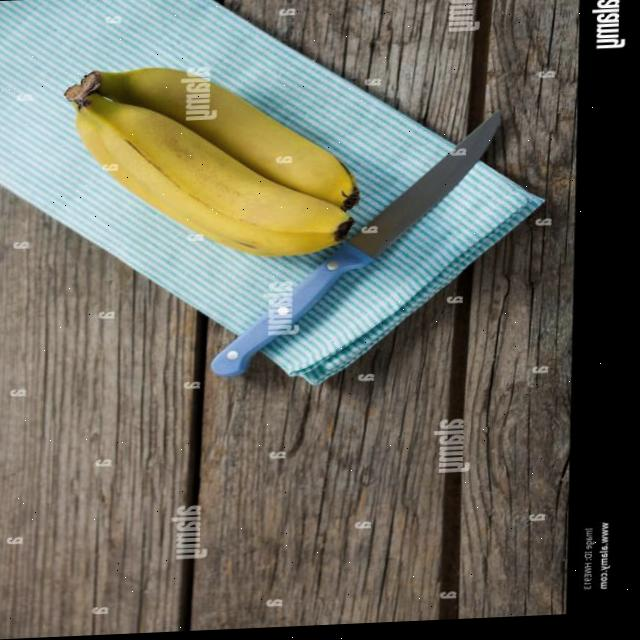banana: (54, 52, 363, 269)
